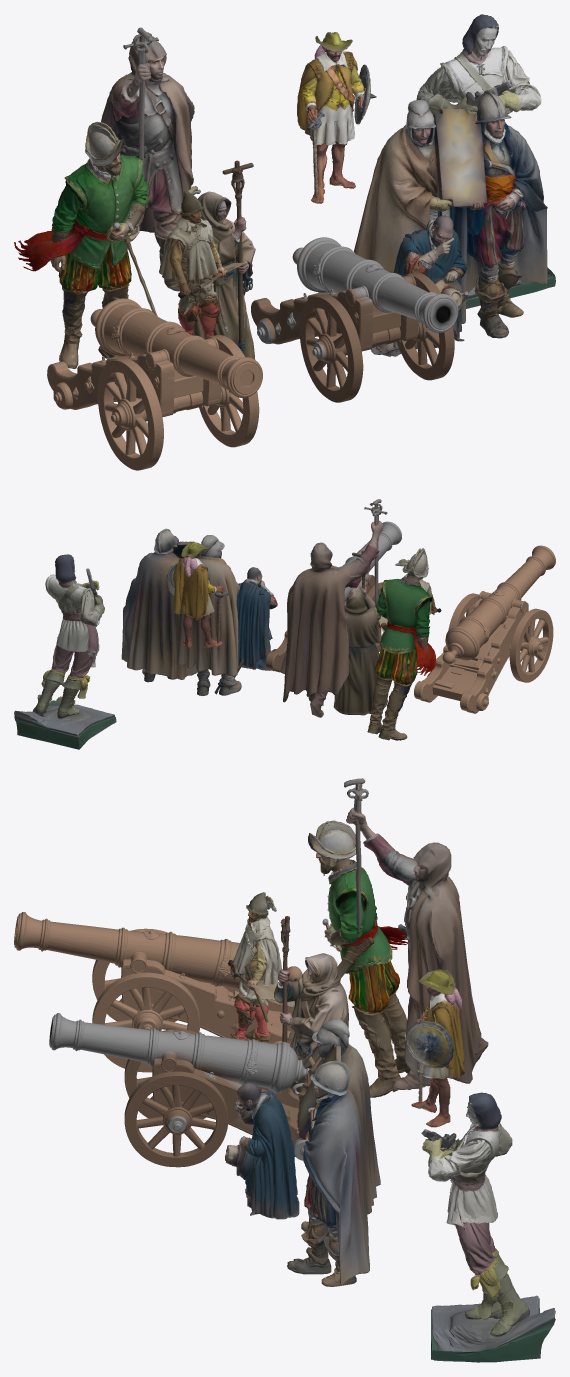
3 renders of one model, top to bottom at view 1: azimuth 30°, elevation 25°; view 2: azimuth 150°, elevation 25°; view 3: azimuth 270°, elevation 25°, orthographic. The views are drawn at different scales.
Size of the model in its own units: 11.31 by 7.15 by 9.4.
